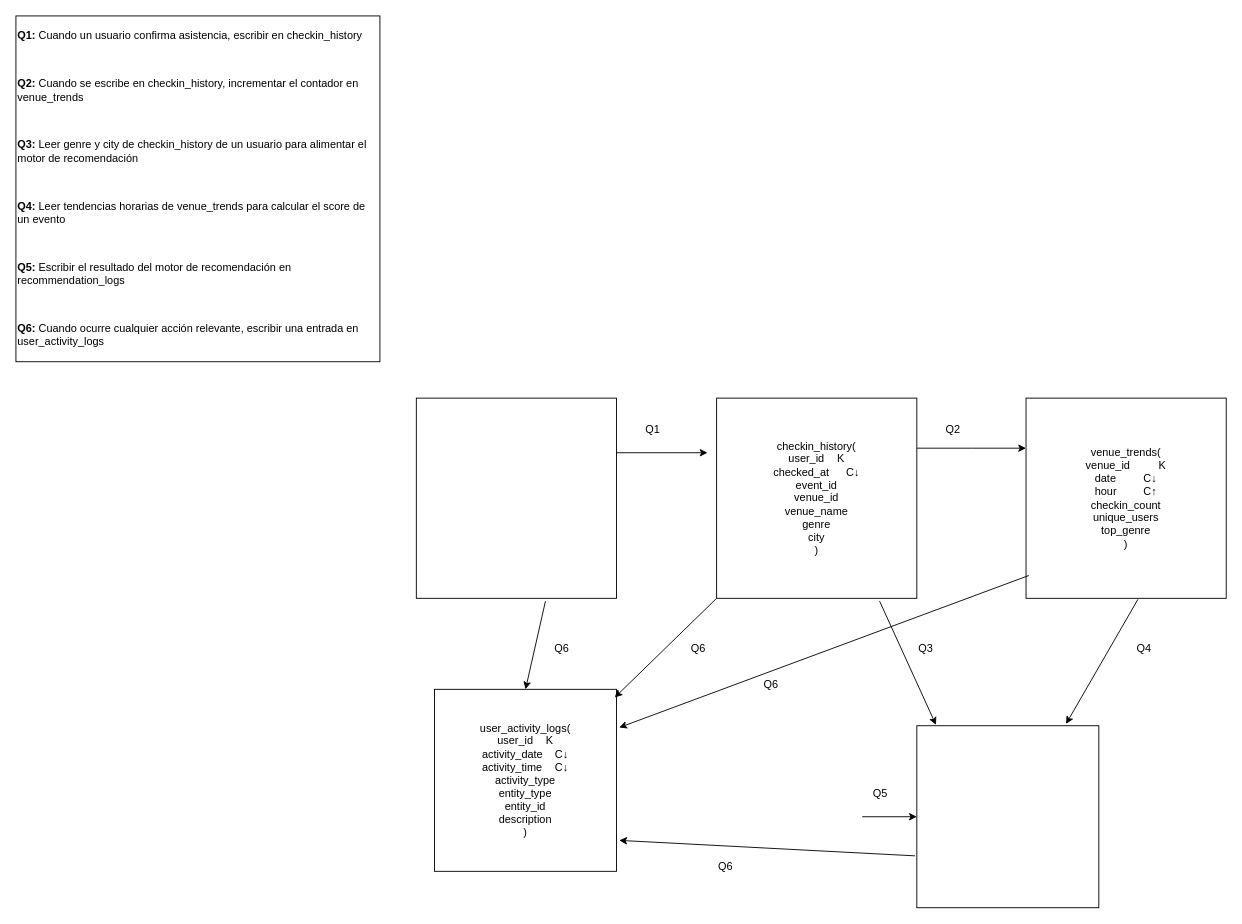
Some shapes in this 1242 by 924 pixel diagram are drawn without their labels. The box of each missing label's shape, as (x1, y1, x2, y2) in pixels:
attendance_logs( user_id K event_id action_time C↓ action_type ): (415, 397, 617, 598)
recommendation_logs( user_id K recommendation_time C↓ event_id score reason ): (916, 725, 1099, 908)
